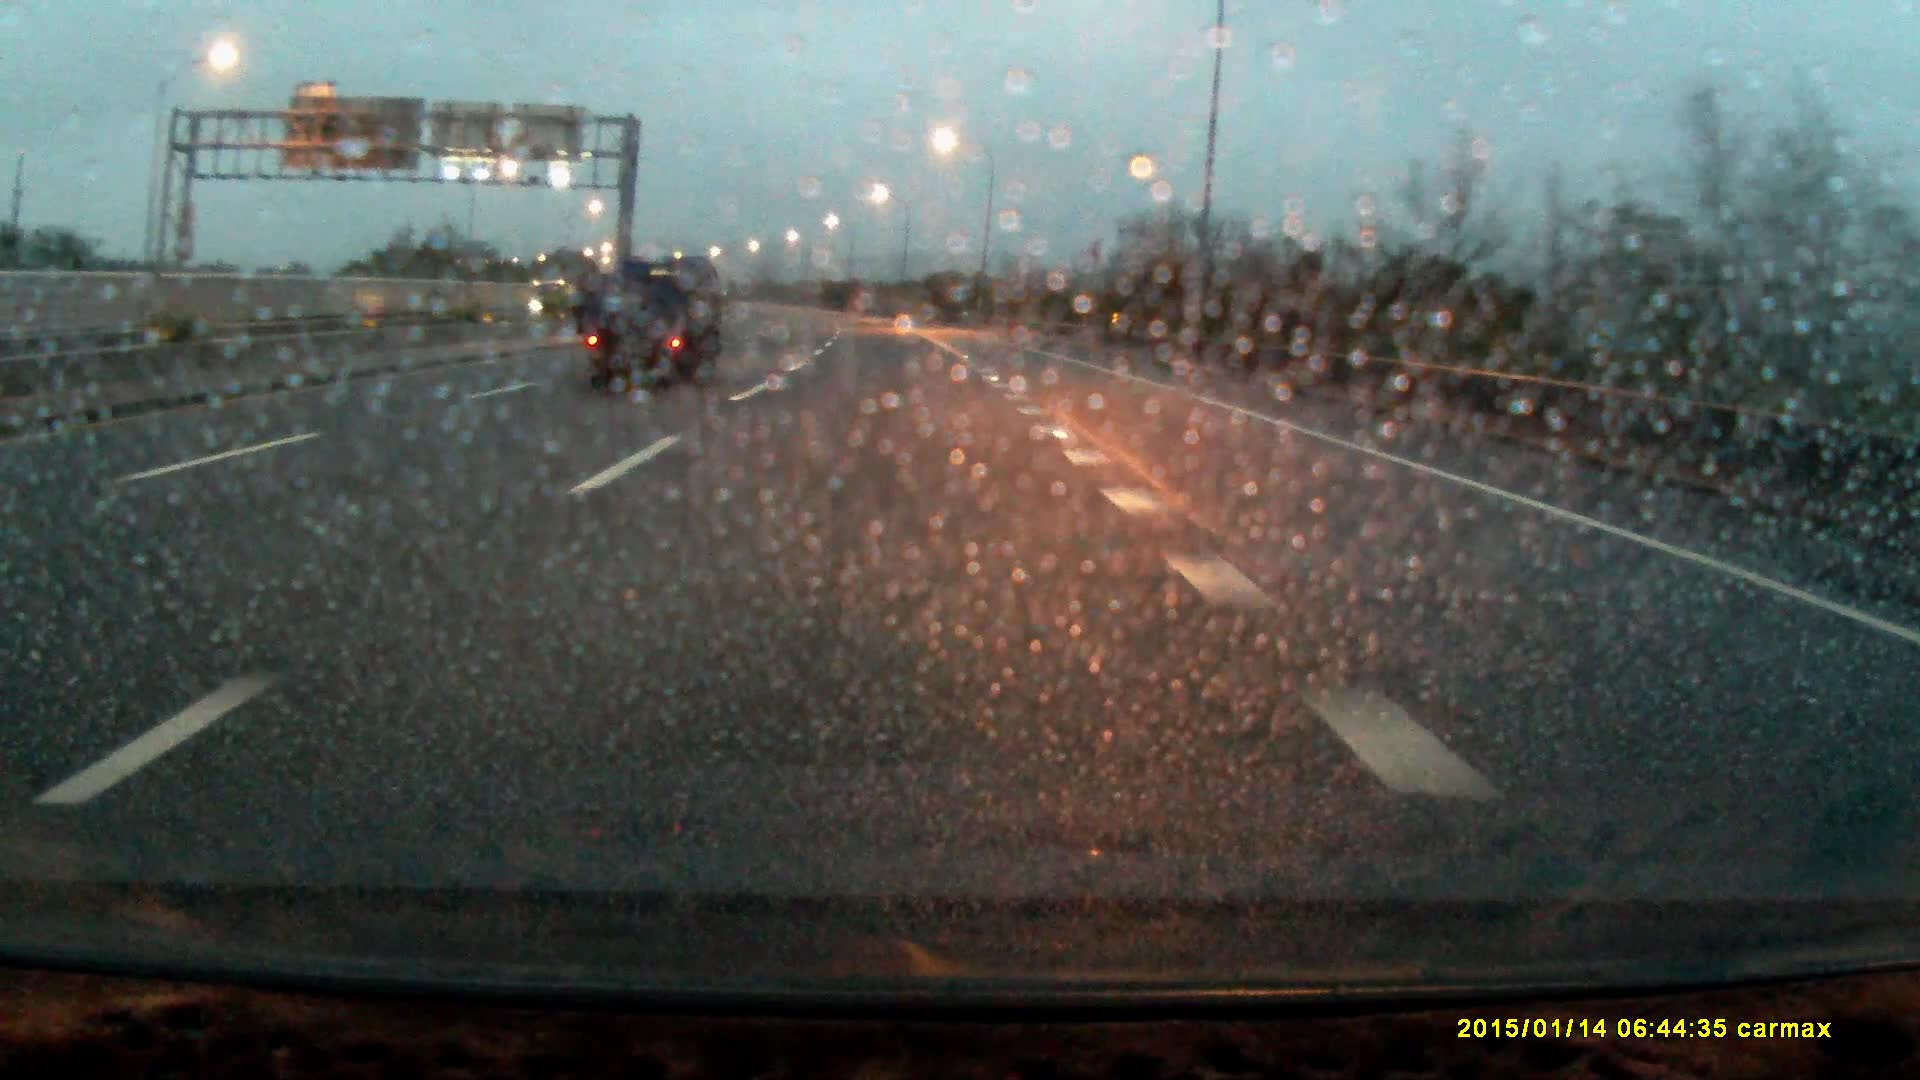vehicle: (578, 253, 727, 384)
